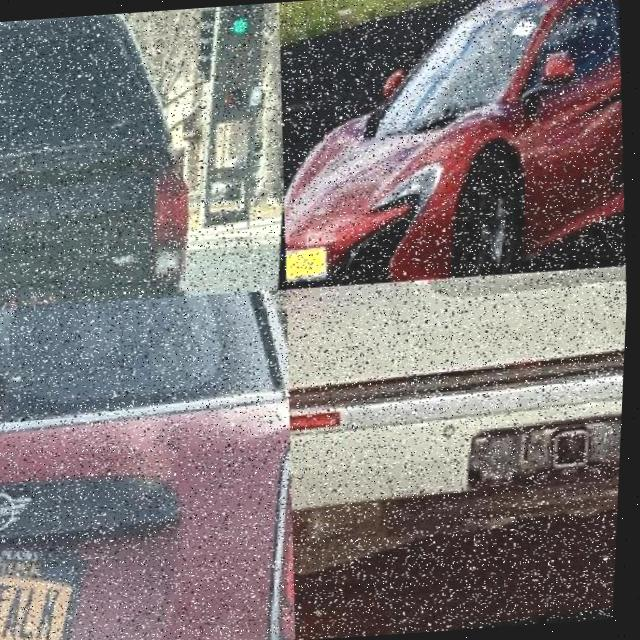LicensePlate: (0, 552, 96, 640), (289, 245, 334, 281)
